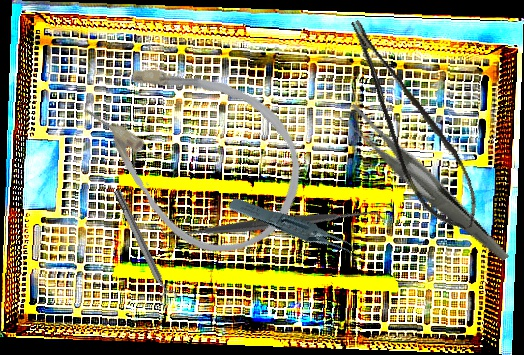Cannula: (58, 18, 333, 282)
Dressing Forceps: (335, 73, 510, 298)
Fixation Ring: (108, 186, 179, 306)
Micro Scissor: (343, 2, 489, 244)
Spatula Surgical: (158, 110, 386, 338)
Tissue Forceps: (227, 174, 361, 285)
